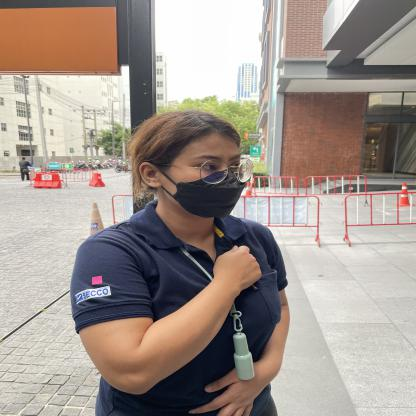Sadness: (176, 229, 296, 306)
